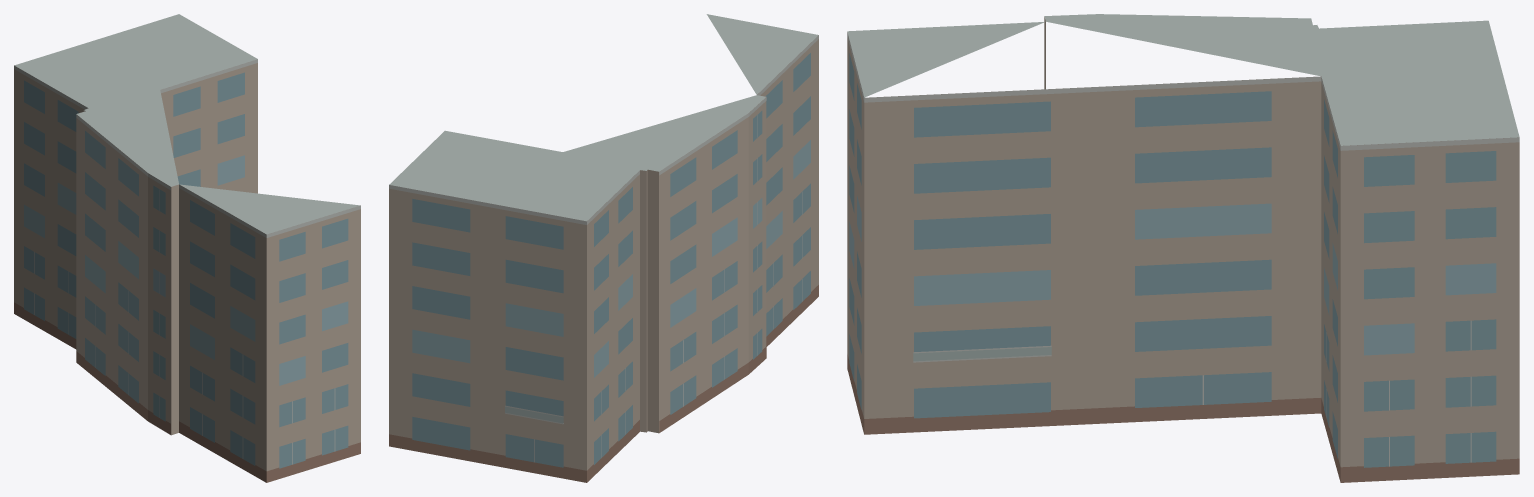
The model's file is survey-upis-32711465.glb.
3 renders of one model, left to right at view 1: azimuth 30°, elevation 25°; view 2: azimuth 150°, elevation 25°; view 3: azimuth 270°, elevation 25°, orthographic. The views are drawn at different scales.
Visible parts, largest first — view 1: survey-upis-32711465.tmp; view 2: survey-upis-32711465.tmp; view 3: survey-upis-32711465.tmp.
Boxes of the visible parts, x1,y1,x2,y2 form: survey-upis-32711465.tmp: (14, 14, 360, 482); survey-upis-32711465.tmp: (389, 14, 818, 482); survey-upis-32711465.tmp: (847, 14, 1519, 482).
Size of the model in its own units: 13.94 by 16.6 by 30.03.
